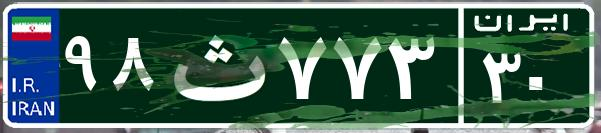0: (525, 38, 570, 115)
3: (385, 28, 445, 110), (475, 38, 525, 113)
7: (273, 28, 330, 110), (330, 28, 385, 110)
8: (110, 28, 158, 105)
9: (57, 26, 110, 107)
ث: (158, 15, 273, 115)
